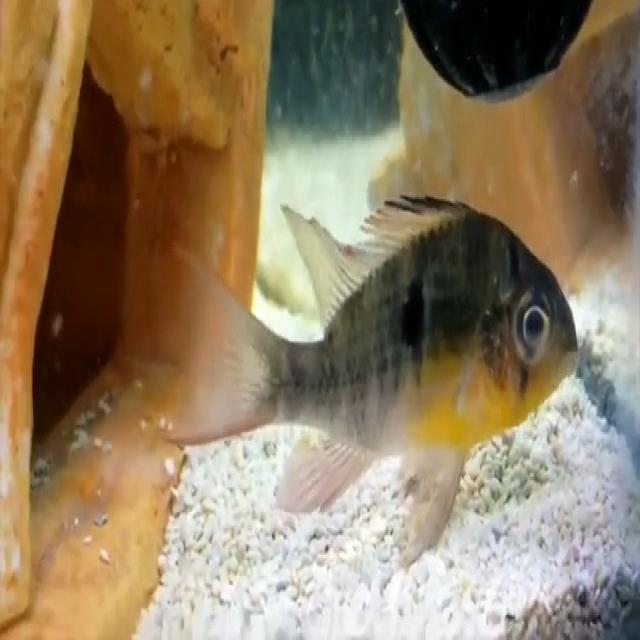fish: (164, 178, 581, 584)
